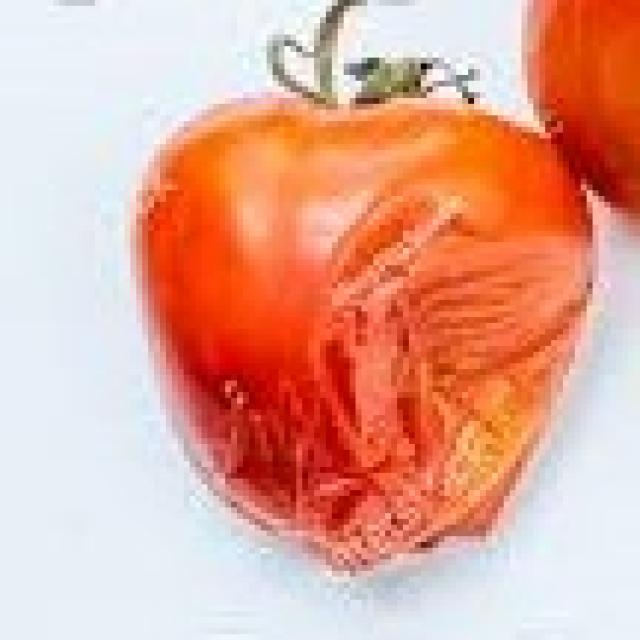overripe: (133, 81, 598, 568)
